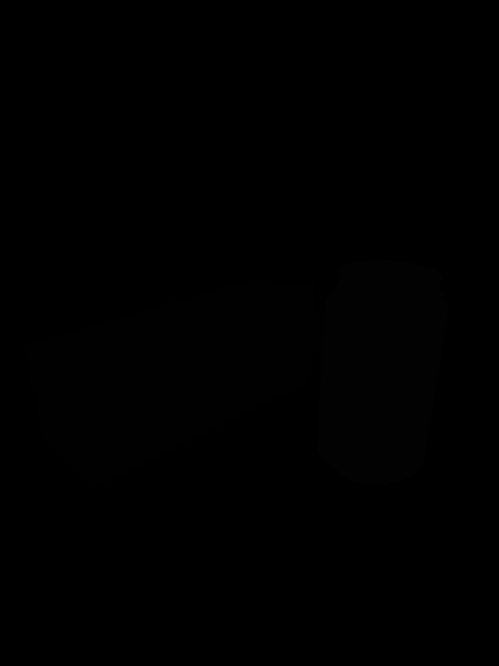can: (314, 258, 450, 488)
carton: (22, 276, 329, 493)
